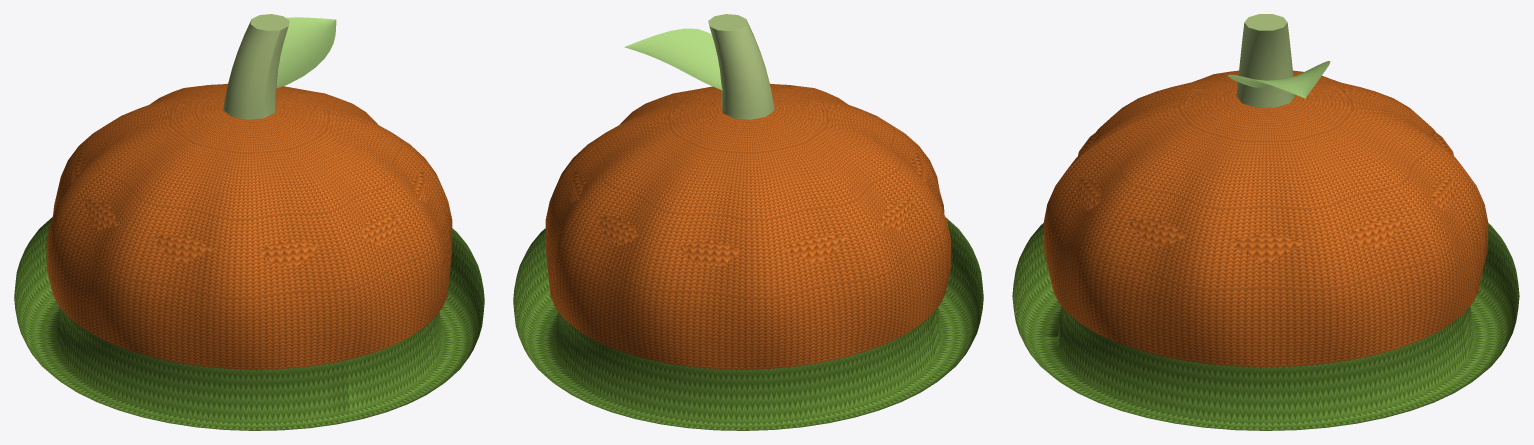
Rendered from hat3d_pumpkin.7227dcbf.glb.
3 renders of one model, left to right at view 1: azimuth 30°, elevation 25°; view 2: azimuth 150°, elevation 25°; view 3: azimuth 270°, elevation 25°, orthographic. The views are drawn at different scales.
Visible parts, largest first — view 1: hat_pumpkin; view 2: hat_pumpkin; view 3: hat_pumpkin.
Boxes of the visible parts, x1=… form: hat_pumpkin: x1=14, y1=14, x2=484, y2=430; hat_pumpkin: x1=513, y1=14, x2=983, y2=430; hat_pumpkin: x1=1012, y1=14, x2=1519, y2=430.
Size of the model in its own units: 0.351 by 0.258 by 0.365.
Materials: 4 (2 with a texture image).
